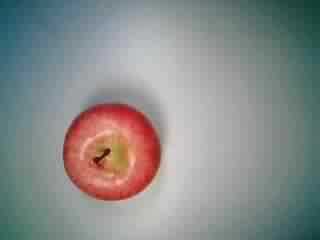apple: (58, 100, 162, 204)
